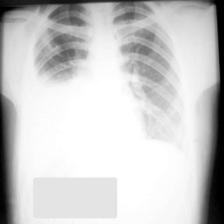tuberculosis: (22, 3, 192, 159)
